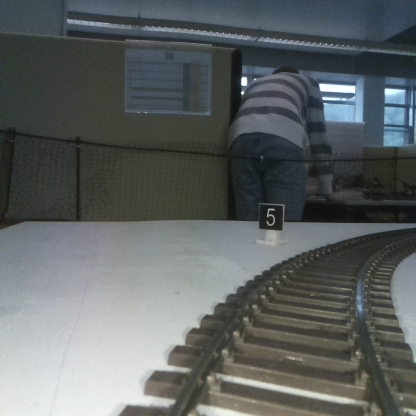black-stop-5: (259, 203, 283, 245)
